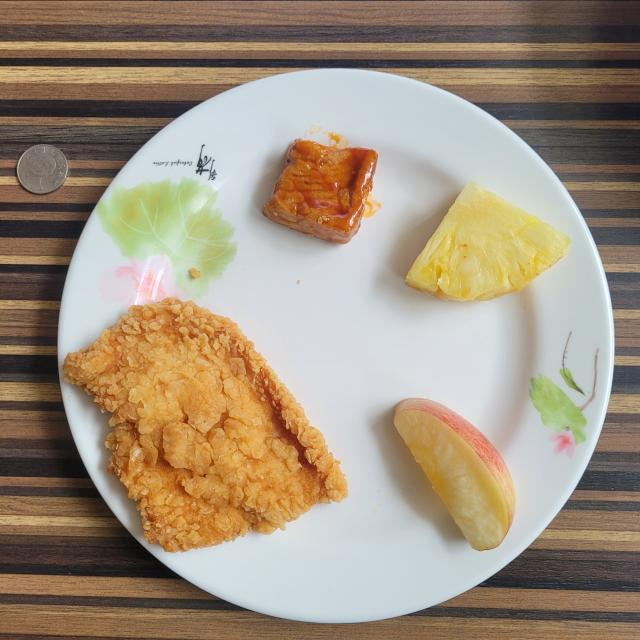apple -sliced-: (394, 399, 516, 551)
coin: (16, 144, 68, 194)
creamy tofu: (262, 139, 378, 244)
fried chicken cutlet: (64, 298, 346, 552)
pineapple: (405, 181, 570, 301)
